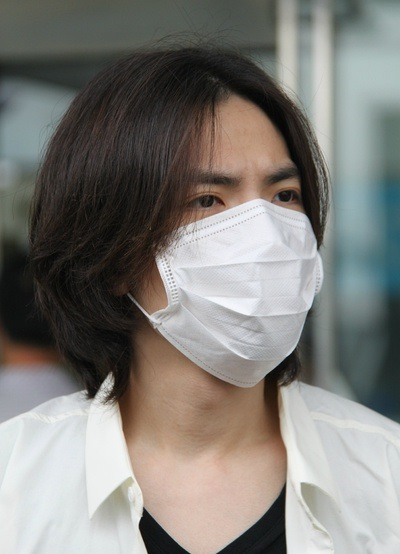face_mask: (151, 102, 323, 386)
